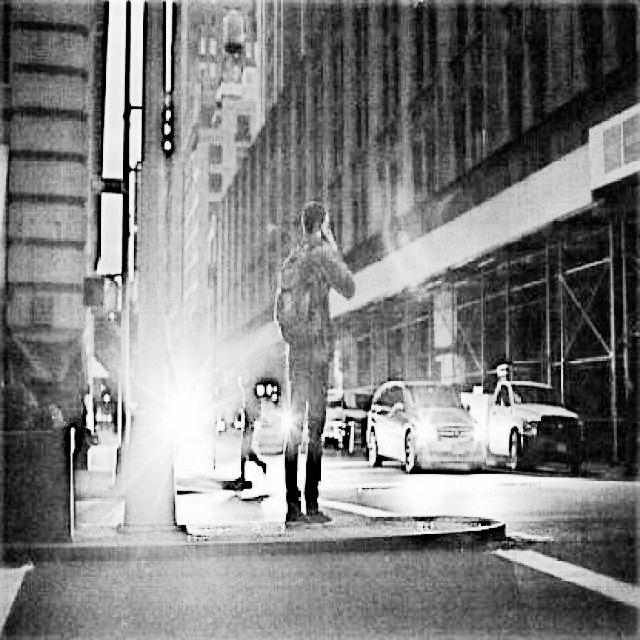Person: (274, 197, 360, 528), (232, 363, 269, 485)
